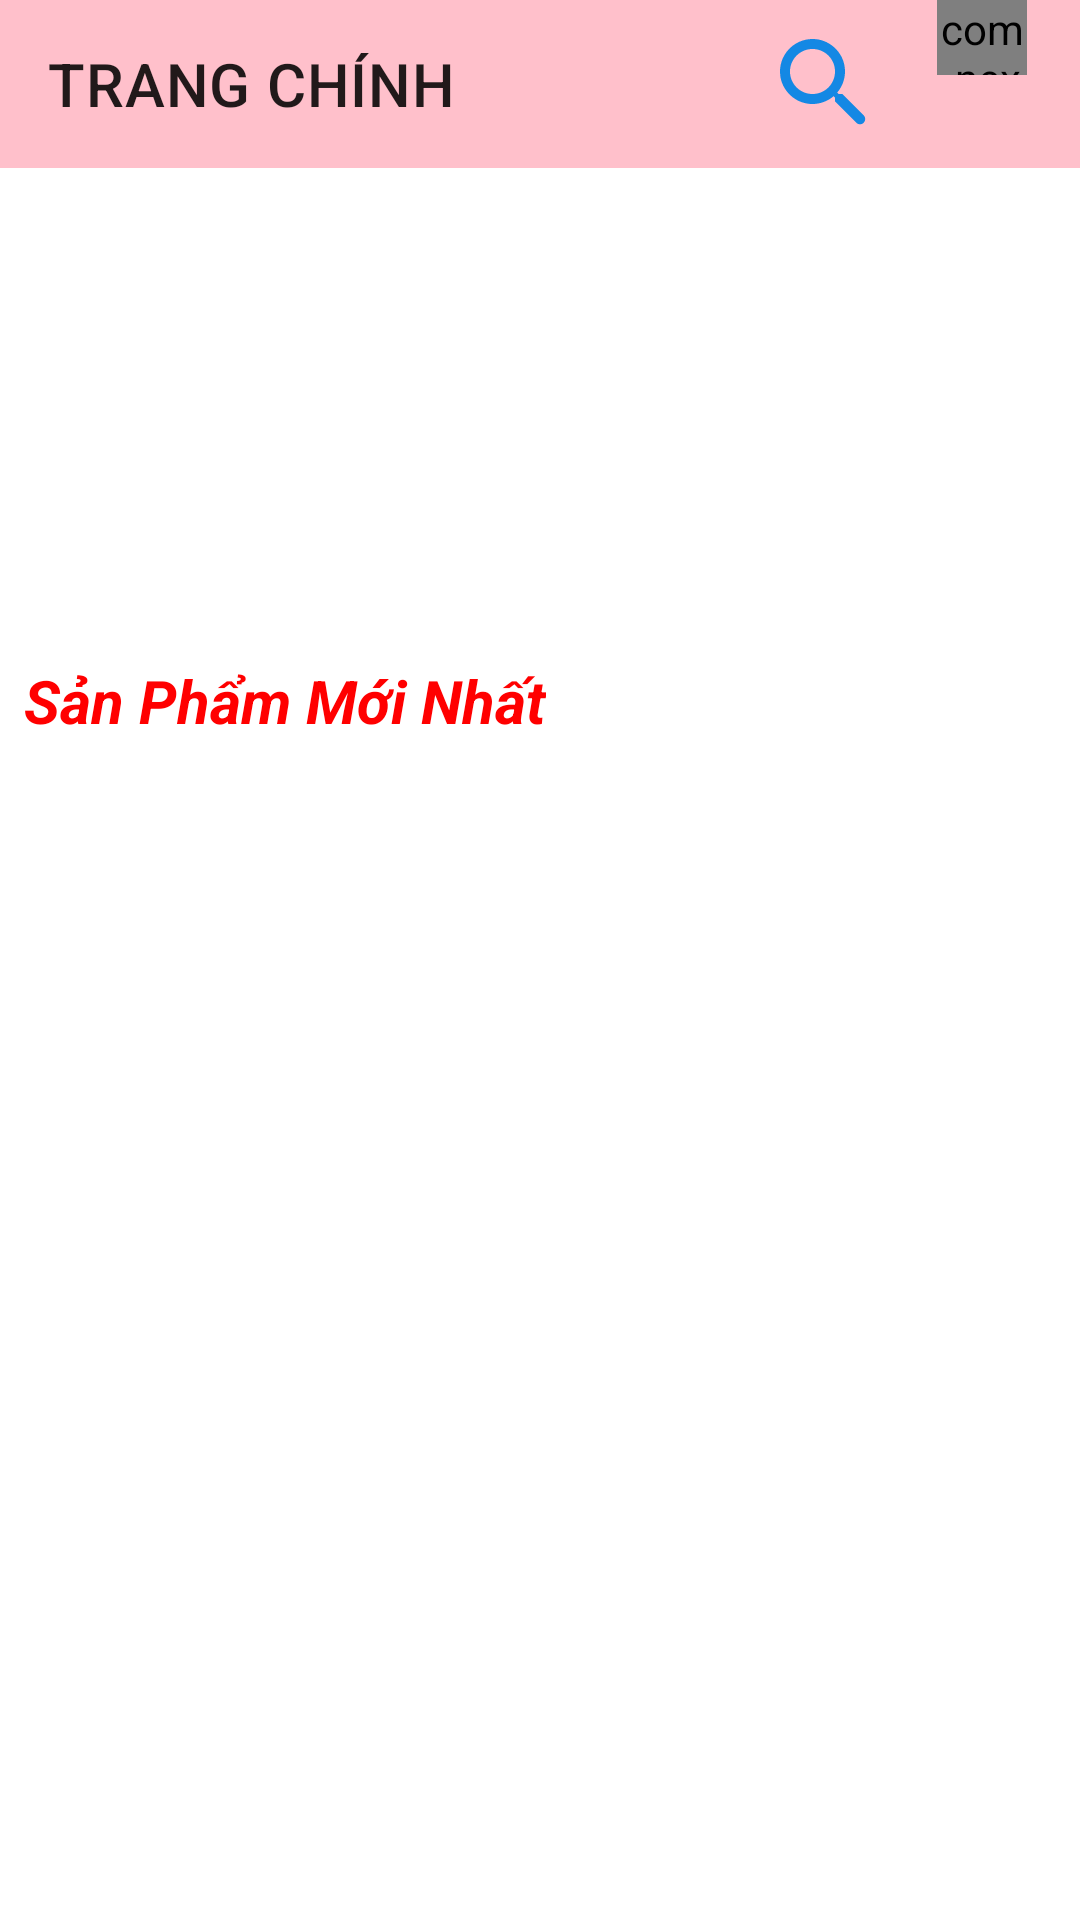

Named icons in this screenshot (1080w x 1920h) and their bounding boxes, (x1, y1, x2, y2):
search: (780, 39, 866, 125)
